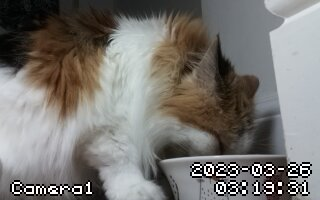clara: (5, 6, 262, 200)
